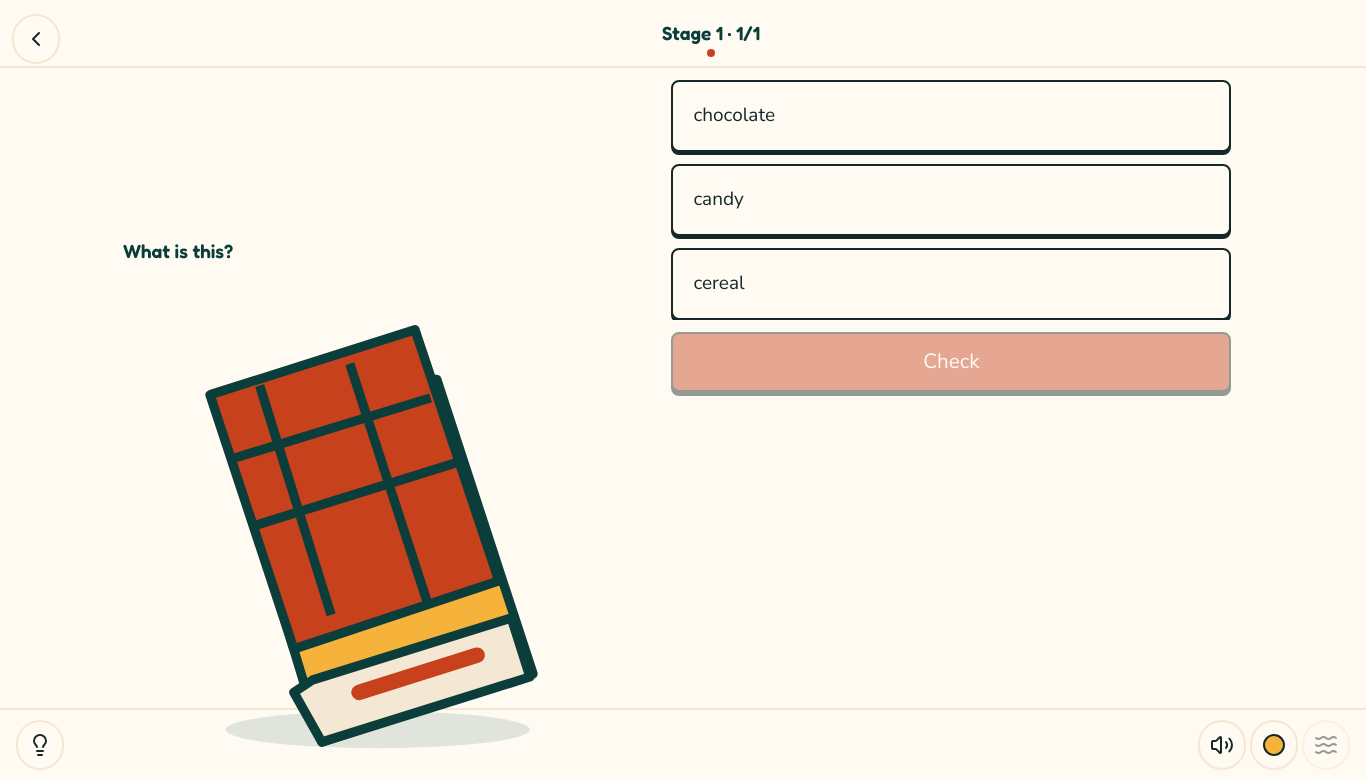
Test case: audio and controls › spends a capped Coconut and removes only wrong options
Click the button named "Coconut power-up" at (1274, 745), box [1250, 720, 1298, 770]
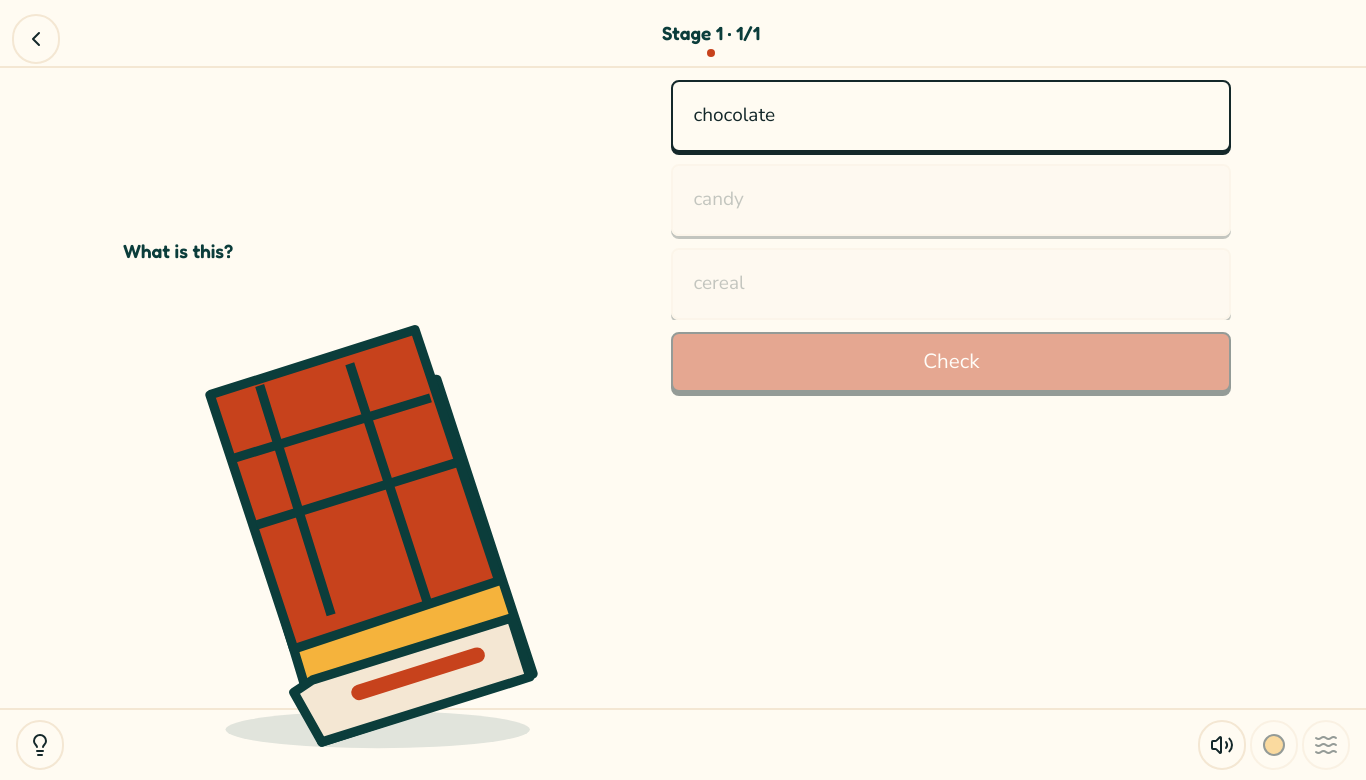
Expected: the button "chocolate" is enabled, [671, 80, 1231, 152]
Expected: the button "candy" is disabled, [671, 164, 1231, 236]
Expected: the button "cereal" is disabled, [671, 248, 1231, 320]
